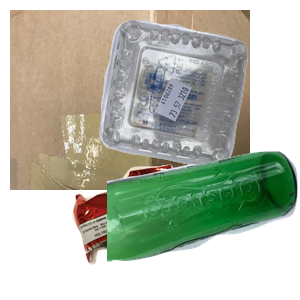cardboard: (10, 10, 250, 190)
glass: (107, 149, 300, 300)
plastic: (97, 17, 300, 176)
trash: (70, 162, 257, 300)
